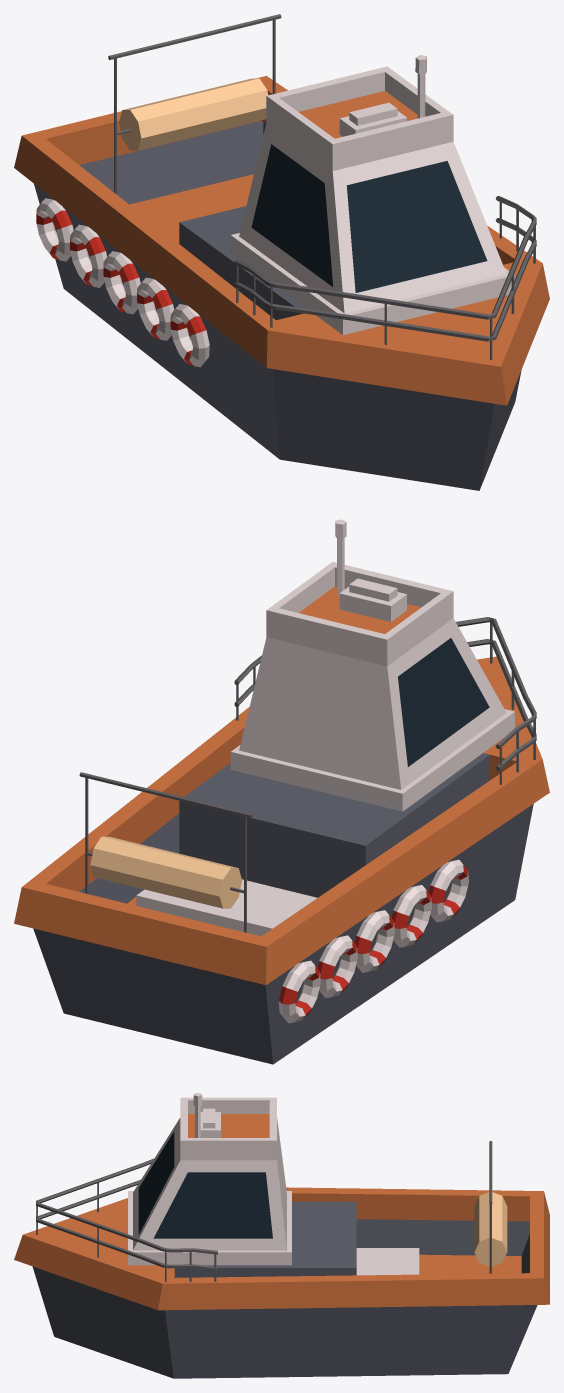
File: Boat01.fbx
3 views of the same model, one above another, from view 1: azimuth 30°, elevation 25°; view 2: azimuth 150°, elevation 25°; view 3: azimuth 270°, elevation 25° (orthographic). The views are drawn at different scales.
Visible parts, largest first — view 1: boat01; view 2: boat01; view 3: boat01.
Boxes of the visible parts, x1,y1,x2,y2 form: boat01: (14, 14, 549, 490); boat01: (14, 519, 549, 1064); boat01: (14, 1093, 549, 1378).
Size of the model in its own units: 9.64 by 21.65 by 11.44.
